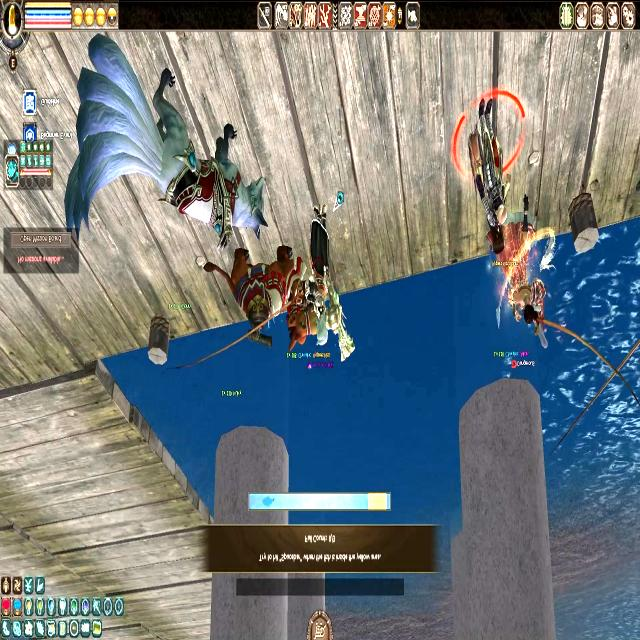fishes: (262, 495, 275, 508)
